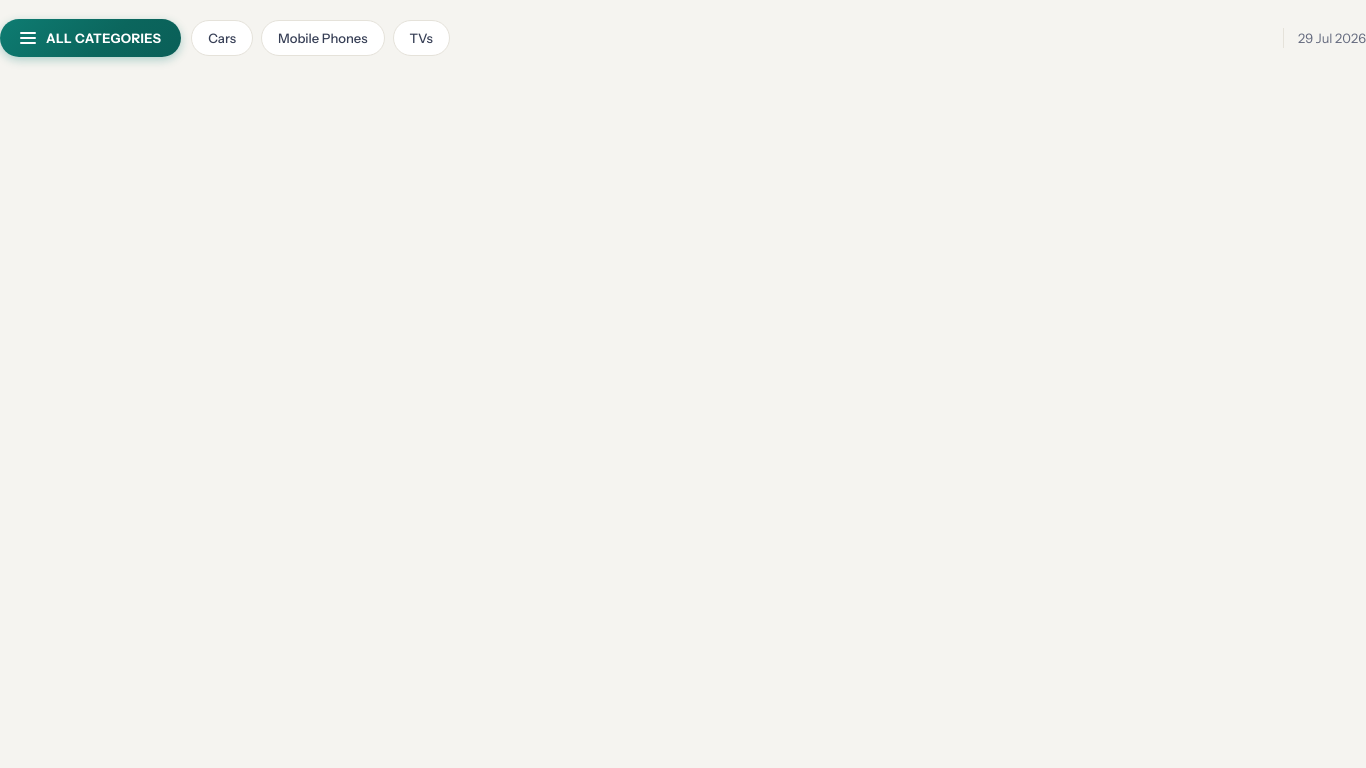
Test: CategoryMegaMenu › opens the mega menu and shows parent groups + child categories
This screenshot has width=1366, height=768.
Click the button "ALL CATEGORIES" at (91, 38), box [0,19,181,57]
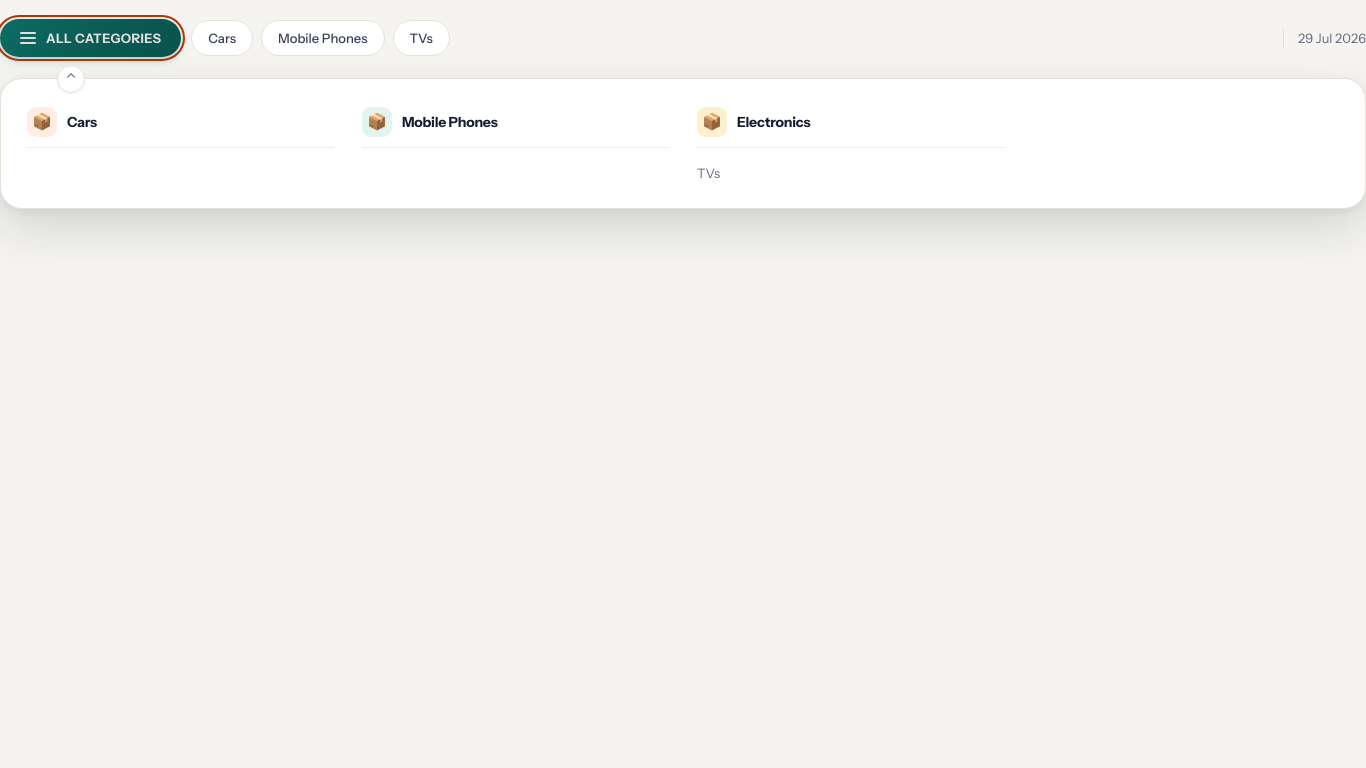
Check: the dialog named "all categories" is shown, box [0,78,1365,209]
Check: the button "📦 Electronics" is shown, box [697,107,1004,148]
Check: the 2nd button "TVs" is shown, box [697,165,720,181]
